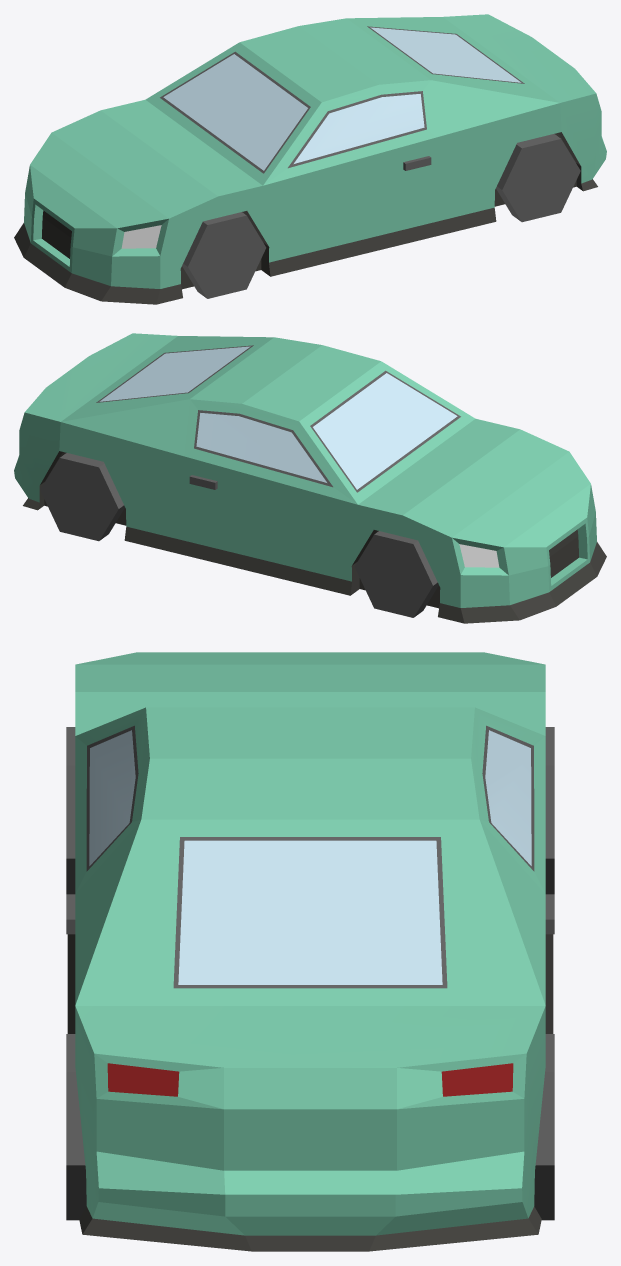
The model's file is Car_3_2.fbx.
3 views of the same model, one above another, from view 1: azimuth 30°, elevation 25°; view 2: azimuth 150°, elevation 25°; view 3: azimuth 270°, elevation 25° (orthographic). The views are drawn at different scales.
Visible parts, largest first — view 1: Car_3_2; view 2: Car_3_2; view 3: Car_3_2.
Part boxes in pixels (left/top/right/bottom): Car_3_2: left=14, top=14, right=606, bottom=304; Car_3_2: left=14, top=333, right=606, bottom=623; Car_3_2: left=66, top=652, right=554, bottom=1251.
Size of the model in its own units: 7.4 by 2.03 by 2.96.
1 material, 1 textured.
